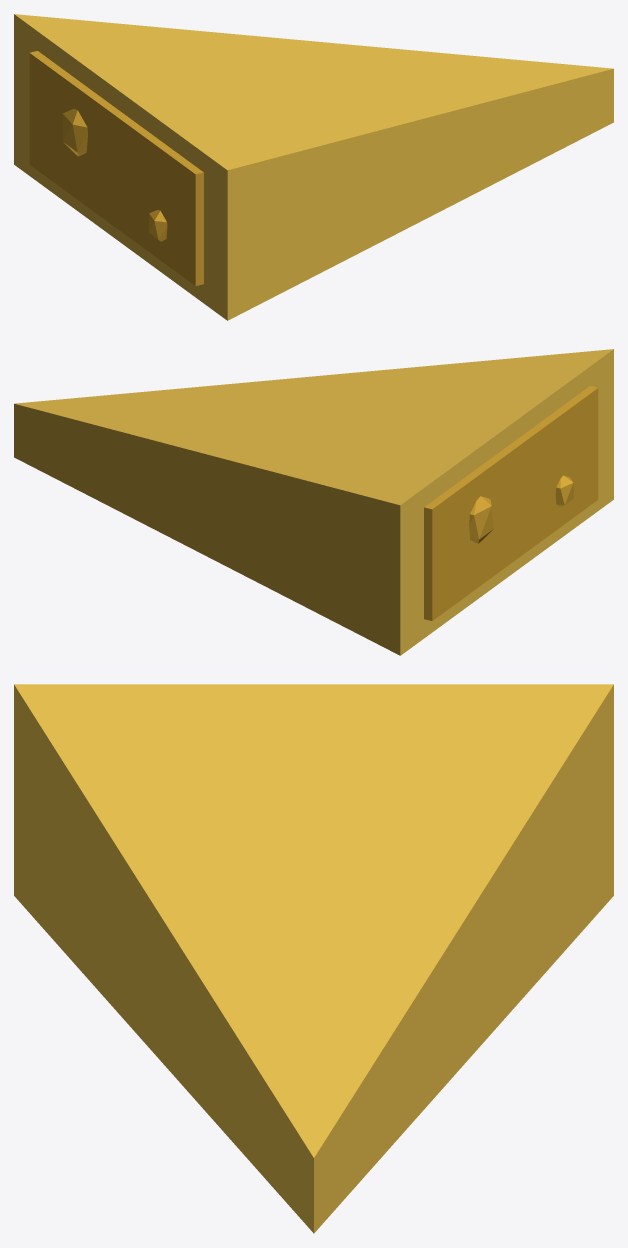
Rendered from drop_cheese.glb.
3 renders of one model, top to bottom at view 1: azimuth 30°, elevation 25°; view 2: azimuth 150°, elevation 25°; view 3: azimuth 270°, elevation 25°, orthographic. The views are drawn at different scales.
Parts seen in each view (by area): view 1: drop_cheese; view 2: drop_cheese; view 3: drop_cheese.
Part boxes in pixels (x1,y1,x2,y2): drop_cheese: (14, 14, 613, 320); drop_cheese: (14, 349, 613, 655); drop_cheese: (14, 684, 613, 1233).
Size of the model in its own units: 0.2479 by 0.07 by 0.18.
